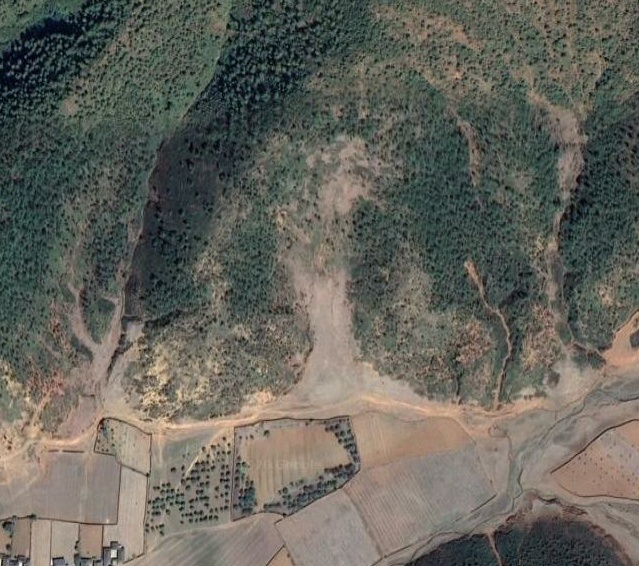slope: (239, 270, 445, 417)
